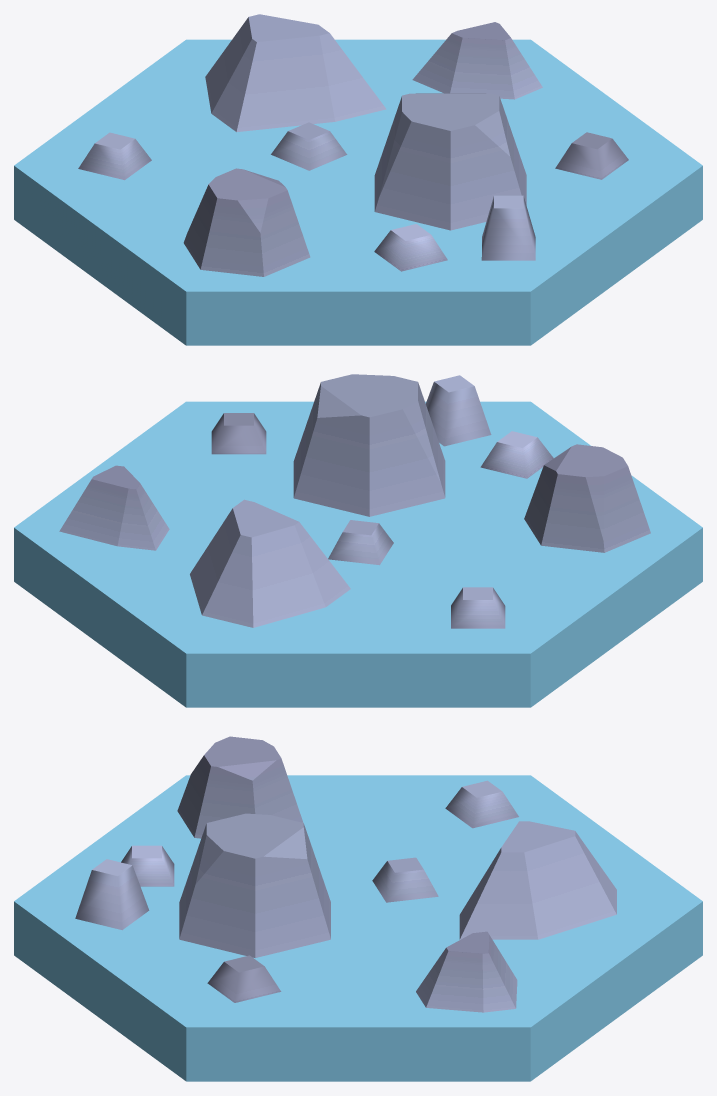
Rendered from water-rocks.glb.
3 views of the same model, one above another, from view 1: azimuth 30°, elevation 25°; view 2: azimuth 150°, elevation 25°; view 3: azimuth 270°, elevation 25° (orthographic).
Visible parts, largest first — view 1: water-rocks; view 2: water-rocks; view 3: water-rocks.
Part boxes in pixels (box(x1,y1,x2,y2)): water-rocks: box(14, 14, 702, 345); water-rocks: box(14, 374, 702, 707); water-rocks: box(14, 736, 702, 1081).
Bounding box in the file's own units: 1 × 0.2594 × 1.15.
1 material, 1 textured.
